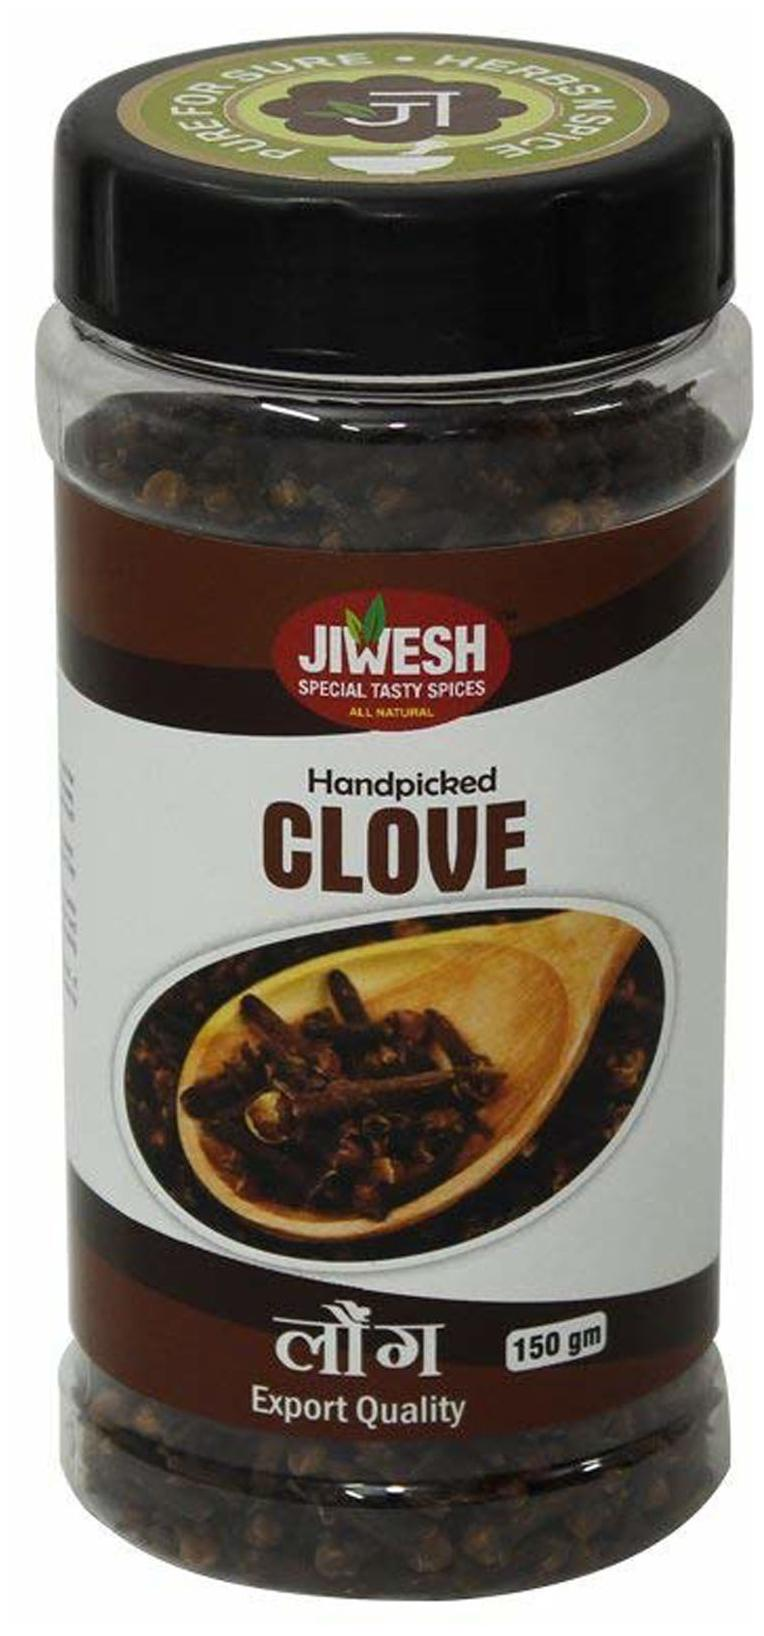JAR: (24, 16, 764, 1613)
